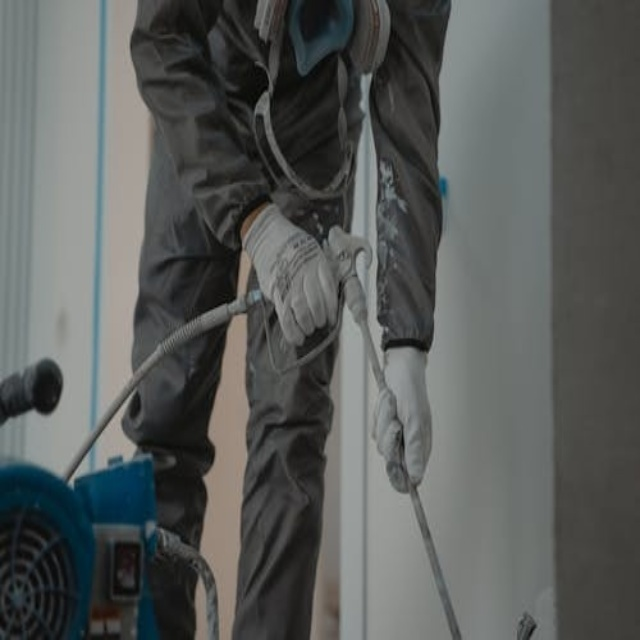Guantes: (242, 201, 340, 348), (371, 340, 433, 489)
